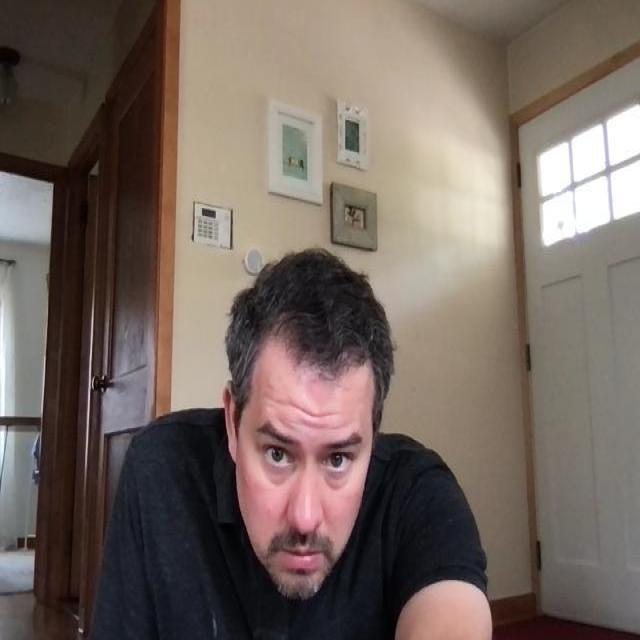face: (222, 248, 394, 604)
